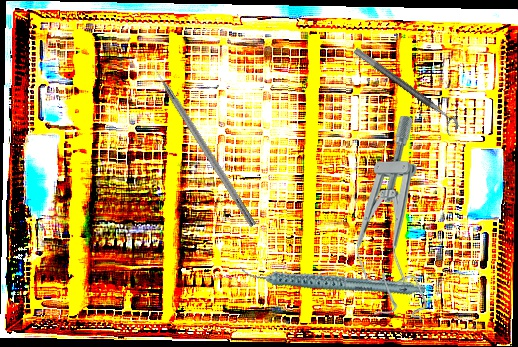Fixation Ring: (347, 46, 462, 138)
Handpiece: (238, 228, 427, 331)
Hook Surgical: (143, 52, 258, 228)
Speculum: (357, 116, 427, 320)
